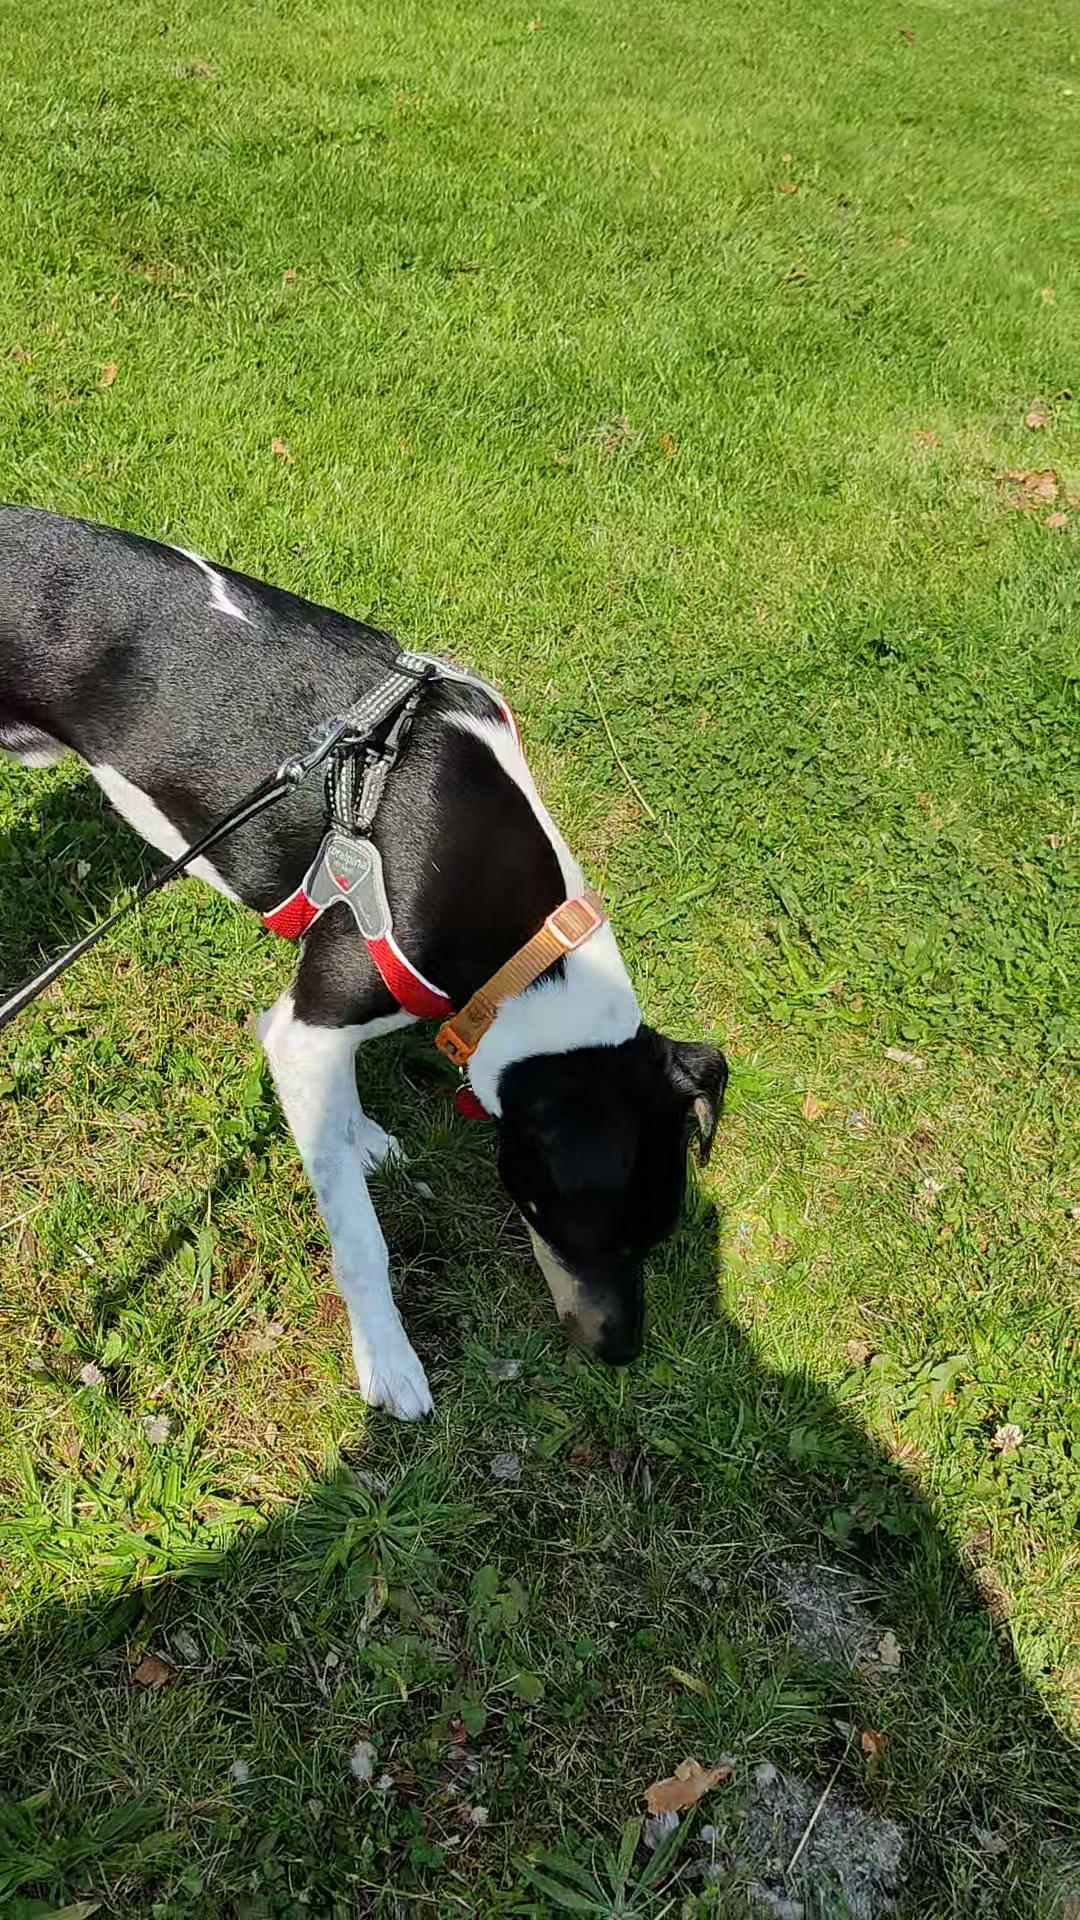Dog: (0, 496, 736, 1432)
